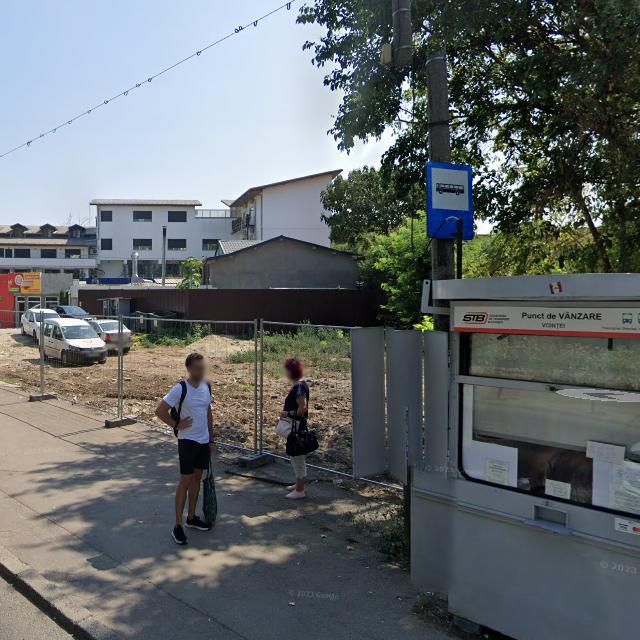info_bus_station: (427, 160, 475, 239)
